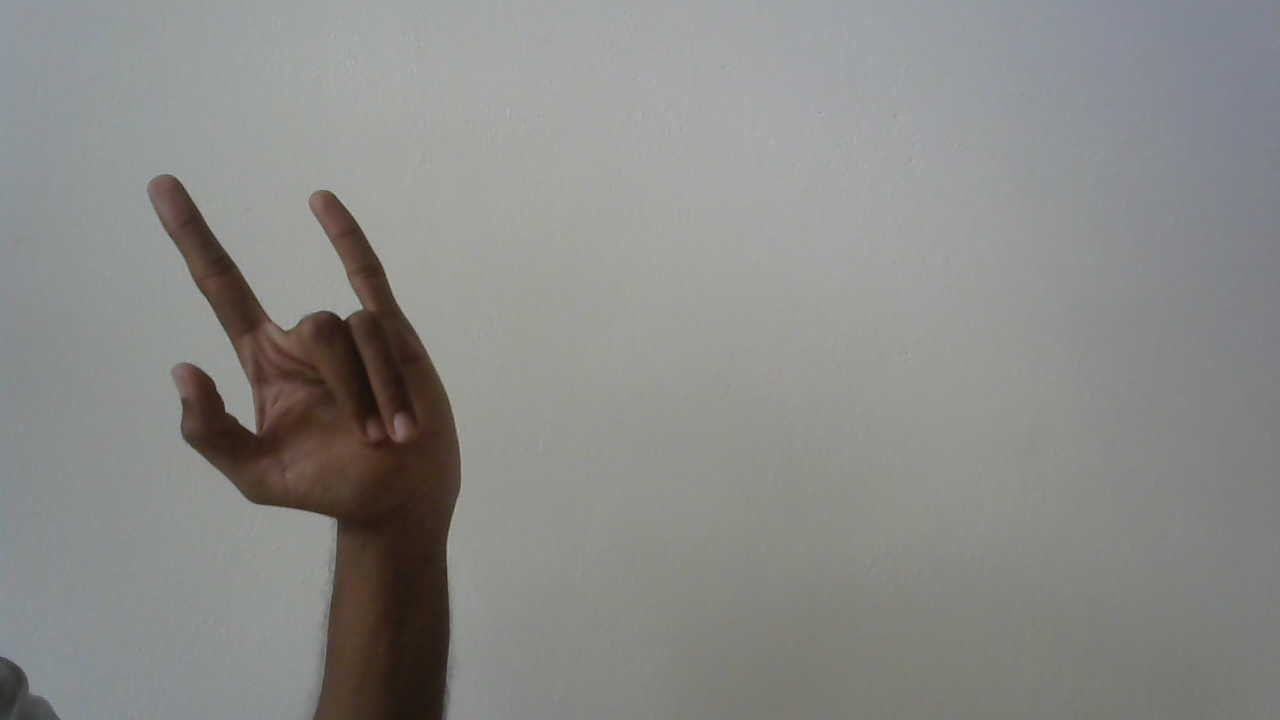iloveyou: (141, 166, 474, 539)
